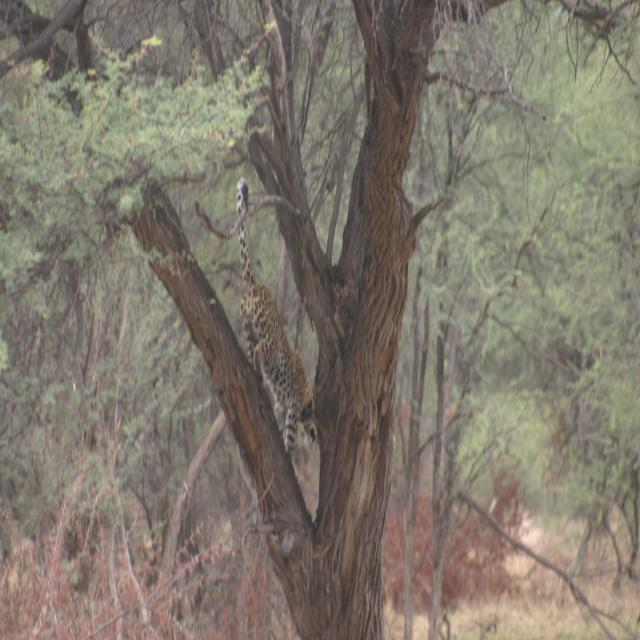Leopard: (211, 207, 311, 548)
